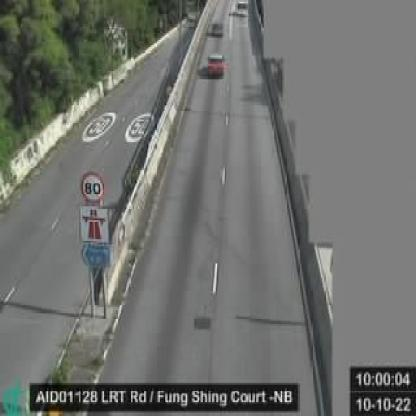Car: (206, 54, 224, 76), (210, 20, 223, 36), (237, 0, 249, 14)
